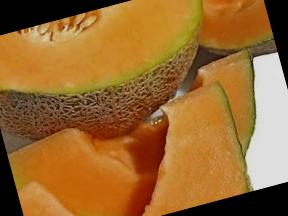Melon Ripe: (0, 0, 228, 158), (4, 84, 253, 216)
